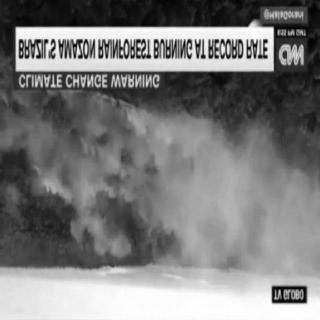Smoke: (31, 127, 171, 235)
